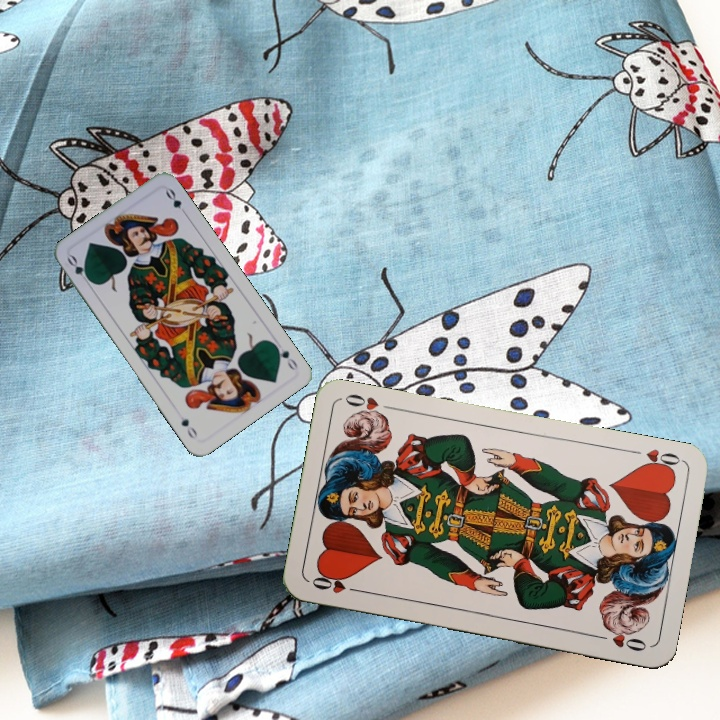GO: (63, 251, 95, 288), (269, 339, 300, 373)
HO: (635, 445, 685, 475), (308, 572, 365, 596)
